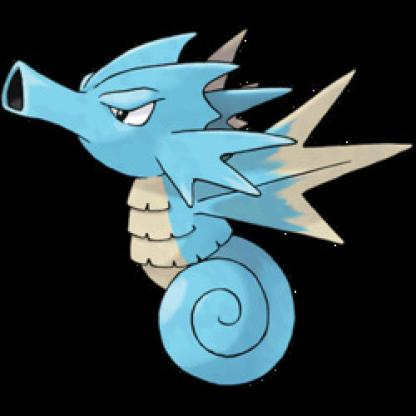Seadra: (1, 29, 406, 384)
